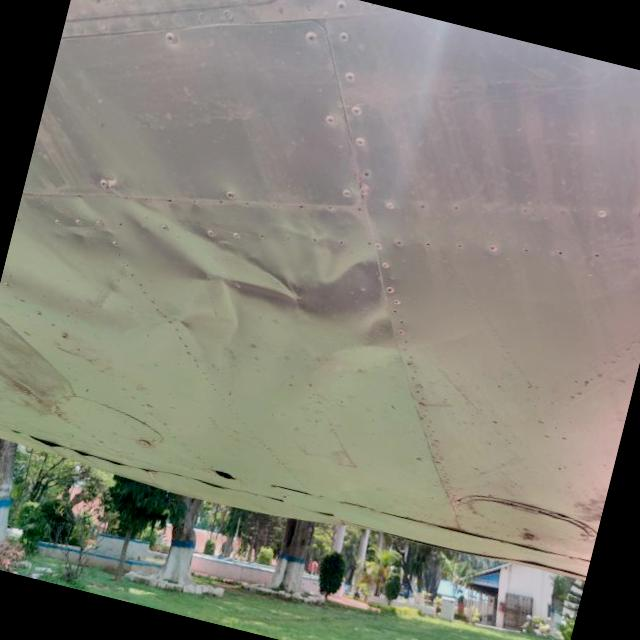dent: (86, 154, 436, 394)
